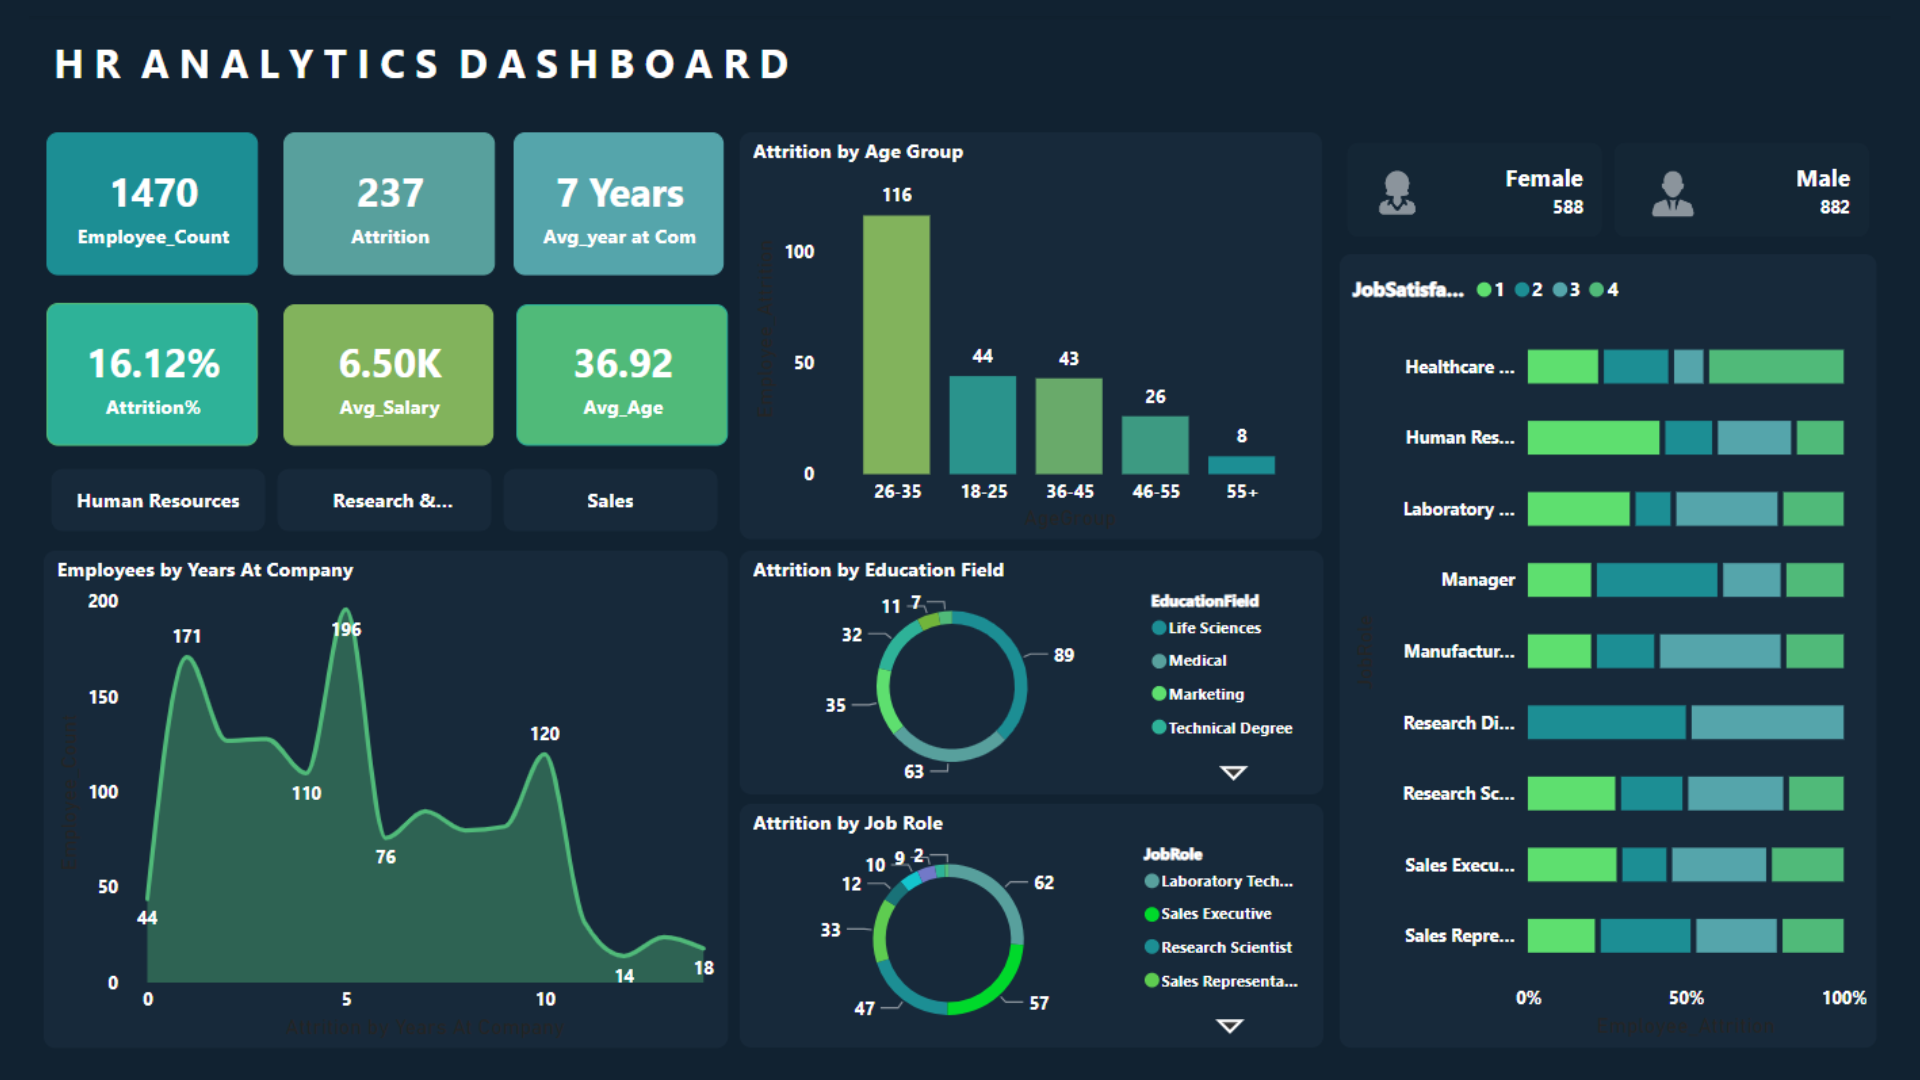

This screenshot's page, from the dashboard's own definition file:
{"tool":"powerbi","page":{"name":"Page 1","canvas":[1280,720],"ordinal":0},"visuals":[{"type":"image","box":[1106.4,97.5,40.8,50.1],"z":0},{"type":"image","box":[918,101.2,39.9,42.7],"z":1000},{"type":"card","fields":{"Values":["New Measures.Employee_Attrition"]},"box":[174.6,80.8,144.7,97.8],"z":2000},{"type":"card","fields":{"Values":["New Measures.Employee_Count"]},"box":[12,80.8,144.7,97.8],"z":3000},{"type":"card","fields":{"Values":["New Measures.Years_With_Text"]},"box":[333.2,80.8,145.7,97.5],"z":4000},{"type":"card","fields":{"Values":["New Measures.Attrition%"]},"box":[12,197.5,144.7,97.8],"z":5000},{"type":"card","fields":{"Values":["New Measures.Avg_Salary"]},"box":[174.6,198.5,143.7,96.8],"z":6000},{"type":"card","fields":{"Values":["New Measures.Avg_Age"]},"box":[334.2,198.5,144.7,96.8],"z":7000},{"type":"areaChart","title":"Employees by Years At Company","fields":{"Y":["New Measures.Employee_Count"],"Category":["HR_Analytics.YearsAtCompany"]},"box":[9.9,367.2,469.3,341.2],"z":8000},{"type":"donutChart","title":"Attrition by Education Field","fields":{"Y":["New Measures.Employee_Attrition"],"Category":["HR_Analytics.EducationField"]},"box":[487.3,367.6,400.1,167.1],"z":9000},{"type":"clusteredColumnChart","title":"Attrition by Age Group","fields":{"Category":["HR_Analytics.AgeGroup"],"Y":["New Measures.Employee_Attrition"]},"box":[487.3,80.8,399.1,279.4],"z":10000},{"type":"hundredPercentStackedBarChart","fields":{"Y":["New Measures.Employee_Attrition"],"Series":["HR_Analytics.JobSatisfaction"],"Category":["HR_Analytics.JobRole"]},"box":[898.5,164.3,368.5,543.9],"z":11000},{"type":"advancedSlicerVisual","fields":{"Values":["HR_Analytics.Gender"]},"box":[898.5,82.6,368.5,75.2],"z":12000},{"type":"advancedSlicerVisual","fields":{"Values":["HR_Analytics.Department"]},"box":[9.9,306.3,469.3,53.7],"z":13000},{"type":"textbox","box":[12.1,9.3,527.2,61.3],"z":14000},{"type":"donutChart","title":"Attrition by Job Role","fields":{"Y":["New Measures.Employee_Attrition"],"Category":["HR_Analytics.JobRole"]},"box":[487.3,541.1,400.1,167.1],"z":15000}]}

Visuals, with their boxes in screenshot pixels (x1, y1, x2, y2), scaled from the page's 1280x720 canvas onto the 1920x1080 screenshot:
image: BBox(1660, 146, 1721, 221)
image: BBox(1377, 152, 1437, 216)
card - New Measures.Employee_Attrition: BBox(262, 121, 479, 268)
card - New Measures.Employee_Count: BBox(18, 121, 235, 268)
card - New Measures.Years_With_Text: BBox(500, 121, 718, 267)
card - New Measures.Attrition%: BBox(18, 296, 235, 443)
card - New Measures.Avg_Salary: BBox(262, 298, 477, 443)
card - New Measures.Avg_Age: BBox(501, 298, 718, 443)
"Employees by Years At Company" areaChart: BBox(15, 551, 719, 1063)
"Attrition by Education Field" donutChart: BBox(731, 551, 1331, 802)
"Attrition by Age Group" clusteredColumnChart: BBox(731, 121, 1330, 540)
hundredPercentStackedBarChart - New Measures.Employee_Attrition x HR_Analytics.JobSatisfaction: BBox(1348, 246, 1900, 1062)
advancedSlicerVisual - HR_Analytics.Gender: BBox(1348, 124, 1900, 237)
advancedSlicerVisual - HR_Analytics.Department: BBox(15, 459, 719, 540)
textbox: BBox(18, 14, 809, 106)
"Attrition by Job Role" donutChart: BBox(731, 812, 1331, 1062)
